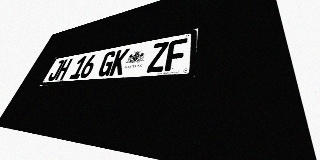1: (69, 55, 89, 79)
6: (79, 54, 99, 78)
F: (164, 38, 188, 71)
G: (96, 50, 117, 77)
H: (54, 58, 73, 80)
J: (47, 60, 65, 81)
K: (109, 48, 130, 76)
Z: (146, 41, 169, 73)
